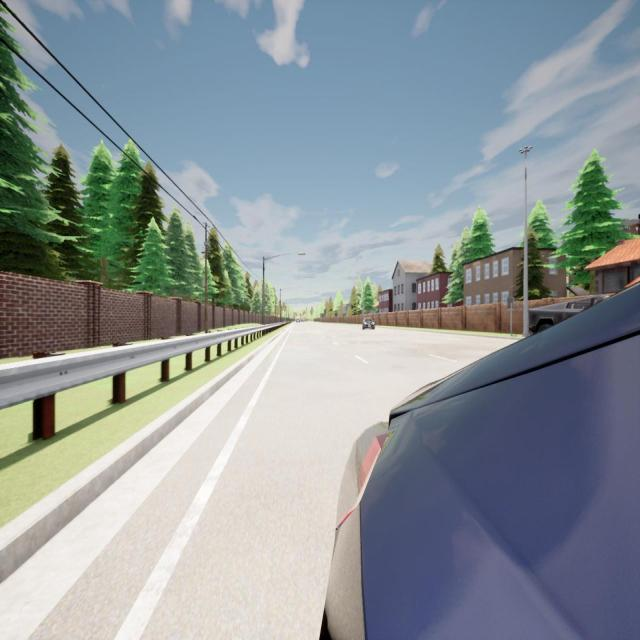Traffic_Signs: (507, 297, 514, 309)
Vehicle: (326, 284, 640, 638), (528, 295, 609, 333), (363, 318, 375, 330), (296, 319, 300, 323)
